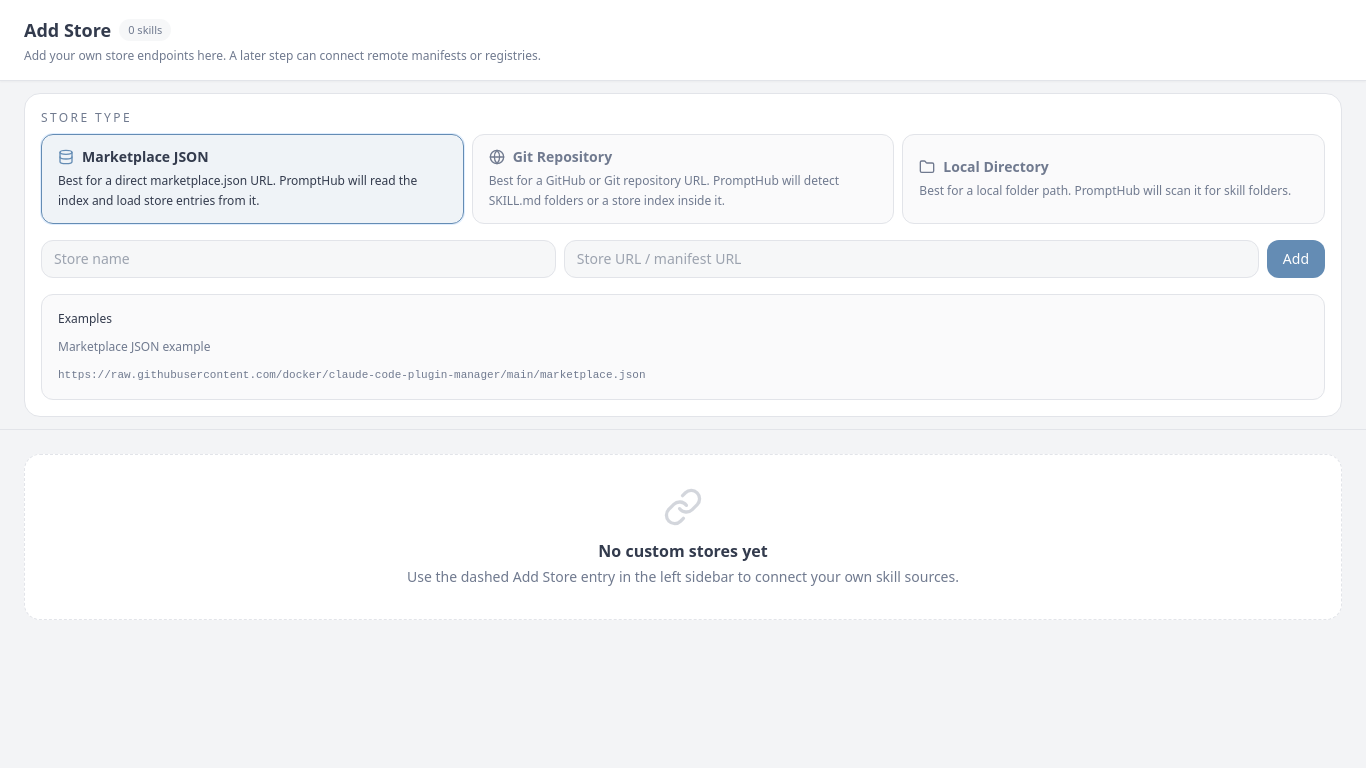
Test case: SkillStore custom sources › hides the selected branch from the suggestion list
This screenshot has width=1366, height=768.
Click the button "Git Repository" at (683, 179), box [472,134,894,224]
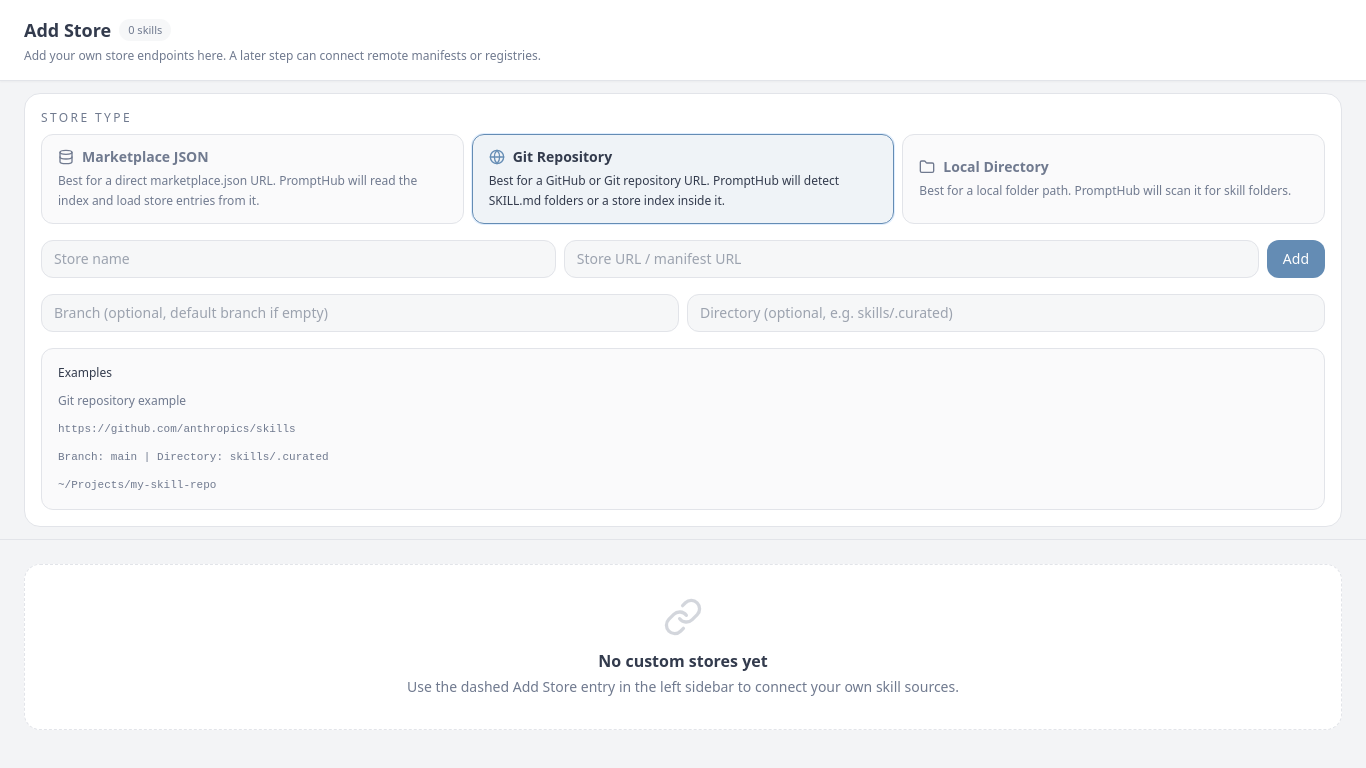
Type "https://github.com/anthropics/skills" into the field with placeholder "Store URL / manifest URL" at (911, 259), box [564,240,1259,278]
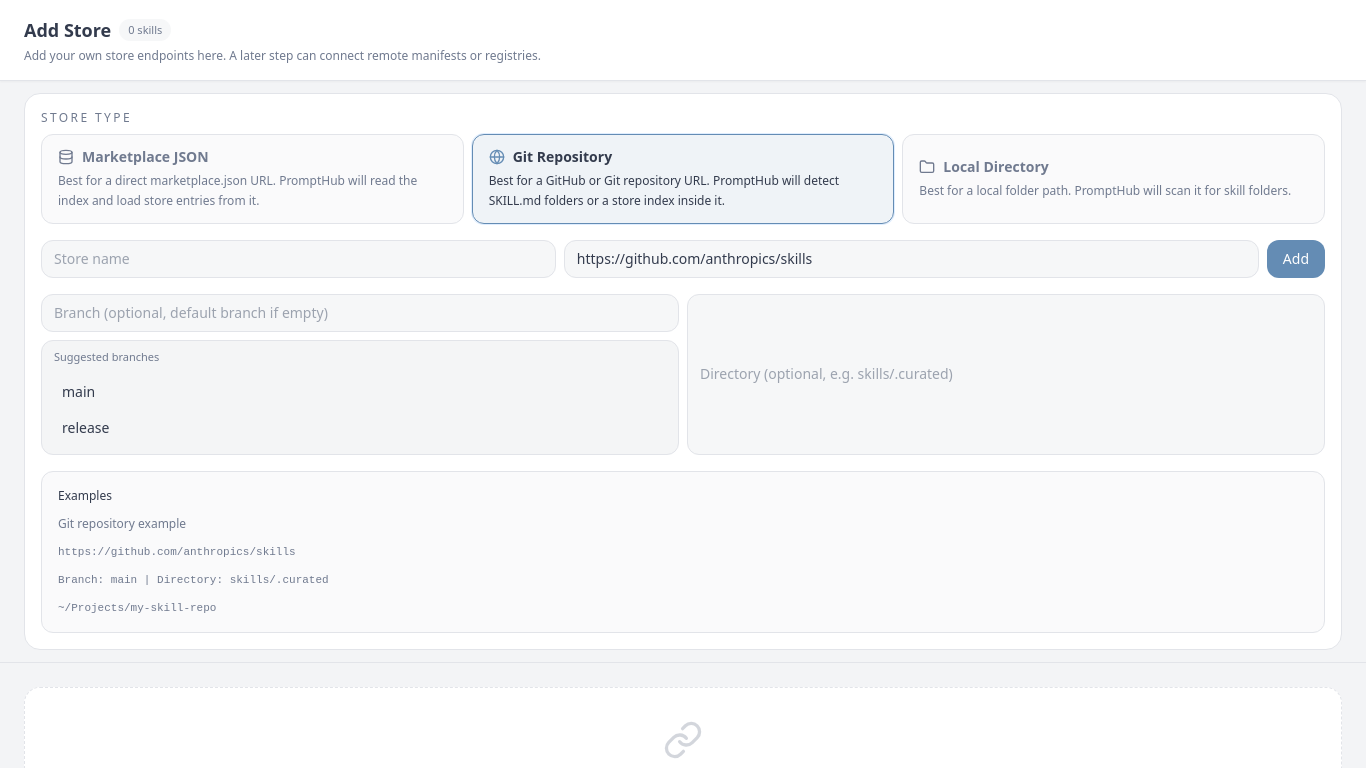
Check: the text "Suggested branches" is shown, box [54,349,159,364]
Click the button "main" at (79, 391), box [50,374,670,410]
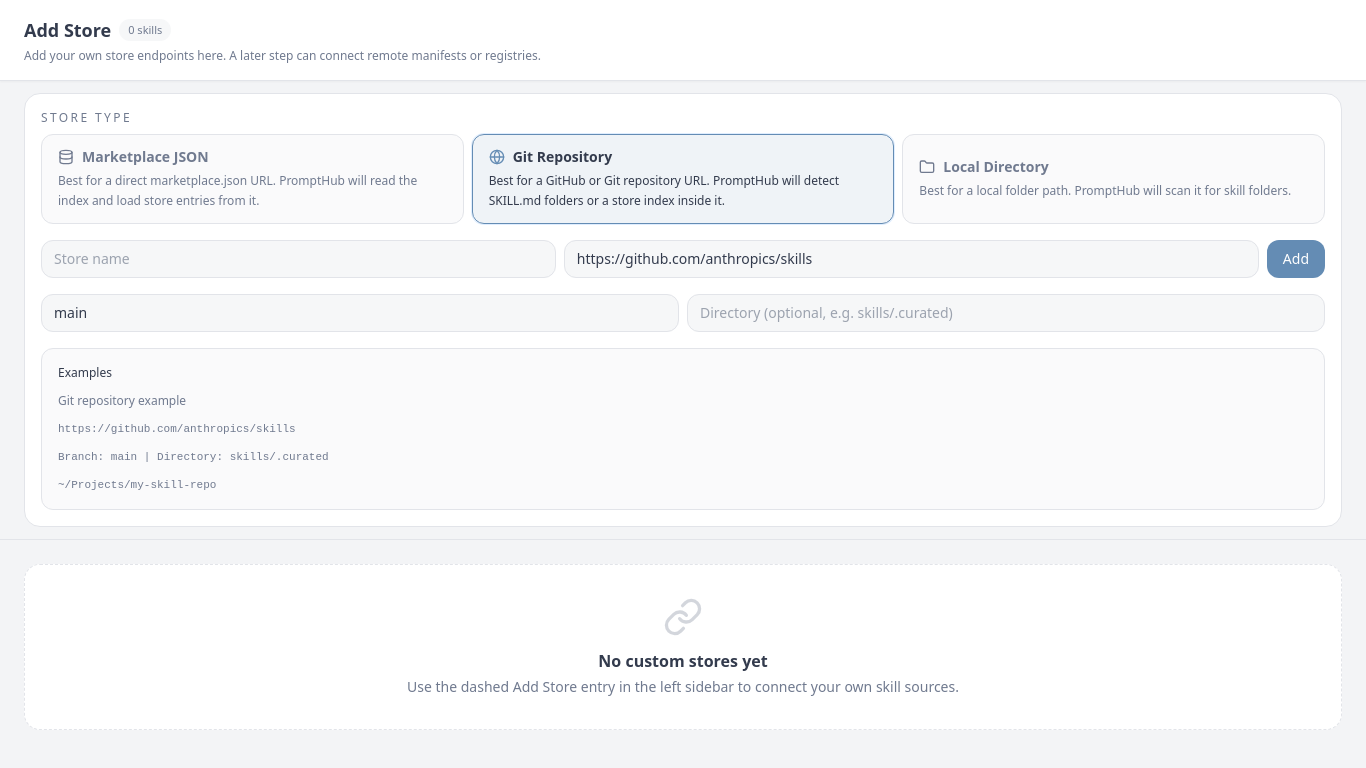
Check: the 2nd field showing "main" is shown, box [41,294,679,332]
